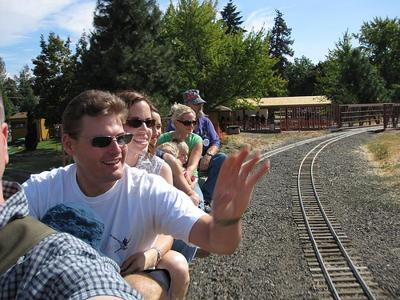person: (18, 90, 271, 300)
